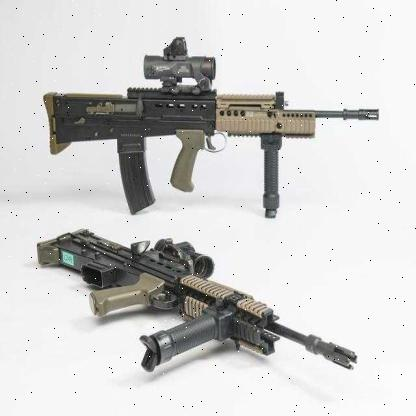rifle: (20, 28, 402, 226), (27, 219, 375, 385)
